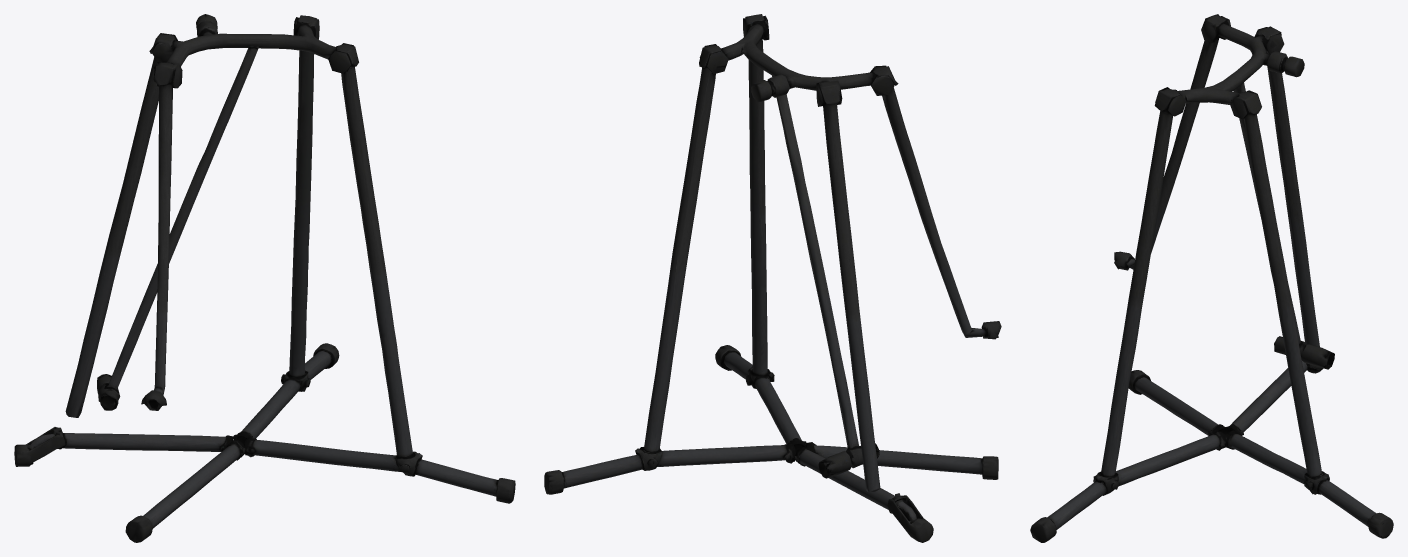
Rendered from guitar_stand_3d_model.fbx.
3 renders of one model, left to right at view 1: azimuth 30°, elevation 25°; view 2: azimuth 150°, elevation 25°; view 3: azimuth 270°, elevation 25°, orthographic. The views are drawn at different scales.
Visible parts, largest first — view 1: tripo_node_e9409ad3; view 2: tripo_node_e9409ad3; view 3: tripo_node_e9409ad3.
Part boxes in pixels (bbox=[...]): tripo_node_e9409ad3: bbox=[14, 14, 515, 542]; tripo_node_e9409ad3: bbox=[544, 14, 1001, 542]; tripo_node_e9409ad3: bbox=[1030, 14, 1393, 542].
Size of the model in its own units: 0.8538 by 0.98 by 0.7878.
